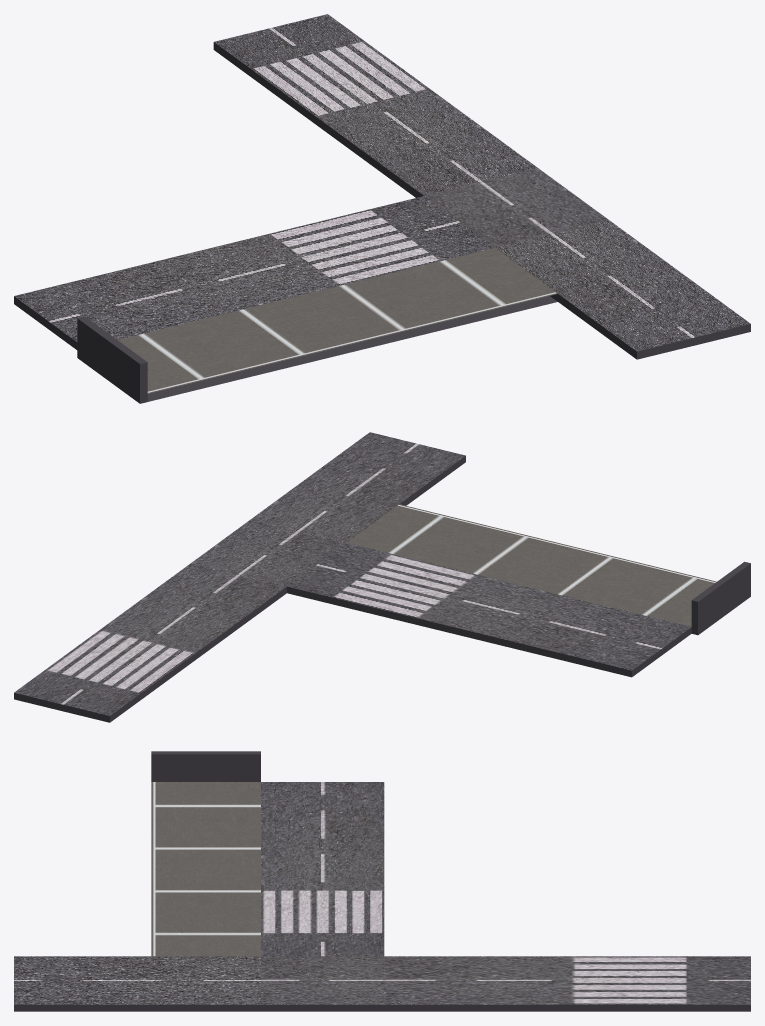
The model's file is stradaParcheggio.obj.
The picture shows the model from 3 angles, top to bottom: view 1: azimuth 30°, elevation 25°; view 2: azimuth 150°, elevation 25°; view 3: azimuth 270°, elevation 25°; orthographic projection. The views are drawn at different scales.
Visible parts, largest first — view 1: Cubo.016; view 2: Cubo.016; view 3: Cubo.016.
Part boxes in pixels (x1=…): Cubo.016: x1=14, y1=14, x2=750, y2=403; Cubo.016: x1=14, y1=432, x2=750, y2=722; Cubo.016: x1=14, y1=751, x2=750, y2=1011.
Bounding box in the file's own units: 24.07 × 1.72 × 33.17.
3 materials, 2 textured.
